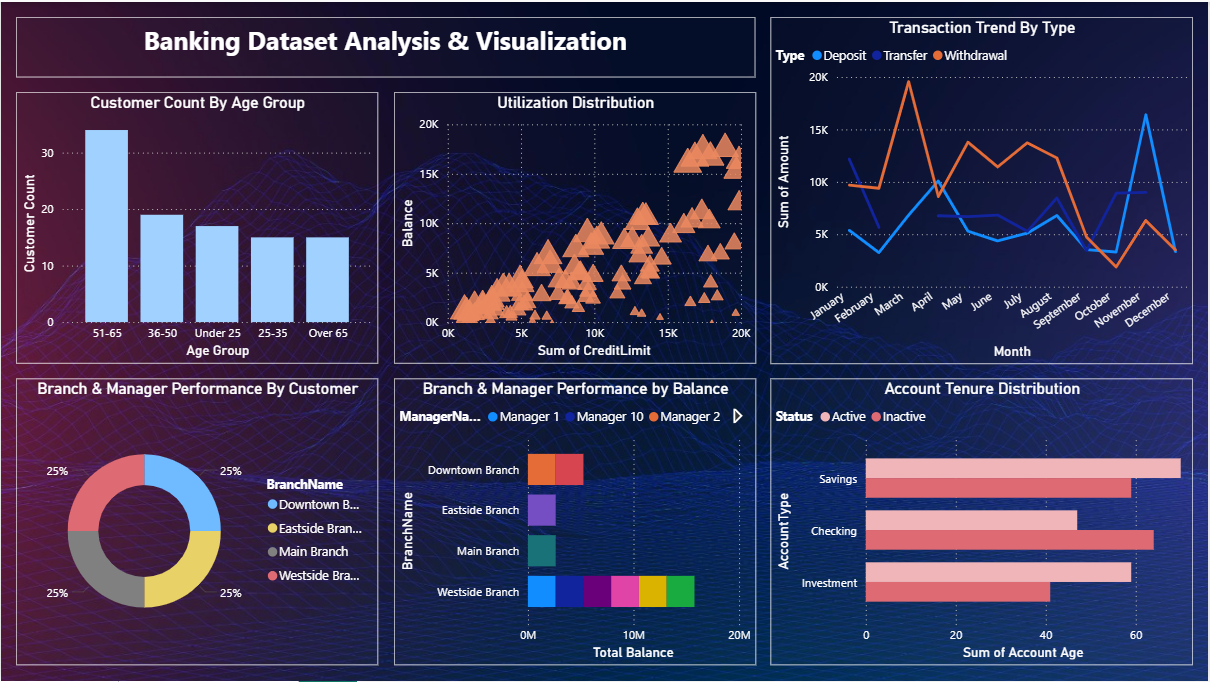

The page's visual inventory and layout, read from the dashboard file:
{"tool":"powerbi","page":{"name":"Visualization 2","canvas":[1280,720],"ordinal":1},"visuals":[{"type":"textbox","box":[16,16,784,64],"z":0},{"type":"columnChart","title":"Customer Count By Age Group","fields":{"Category":["Customers.Age Group"],"Y":["Customers.Customer Count"]},"box":[16,96,384,288],"z":1},{"type":"donutChart","title":"Branch & Manager Performance By Customer","fields":{"Category":["Branches.BranchName","Branches.ManagerName"],"Y":["Customers.Customer Count"]},"box":[16,400,384,304],"z":2},{"type":"scatterChart","title":" Utilization Distribution","fields":{"X":["CreditCards.CreditLimit"],"Y":["CreditCards.Balance"],"Size":["Atms.Credit Utilization"]},"box":[416,96,384,288],"z":3},{"type":"clusteredBarChart","title":"Account Tenure Distribution","fields":{"Category":["Accounts.AccountType"],"Y":["Accounts.Account Age"],"Series":["Accounts.Status"]},"box":[816,400,448,304],"z":4},{"type":"barChart","title":"Branch & Manager Performance by  Balance","fields":{"Category":["Branches.BranchName"],"Y":["Accounts.Total Balance"],"Series":["Branches.ManagerName"]},"box":[416,400,384,304],"z":5},{"type":"lineChart","title":"Transaction Trend By Type","fields":{"Category":["Date.Date.Variation.Date Hierarchy.Month"],"Series":["Transactions.Type"],"Y":["Transactions.Amount"]},"box":[816,16,448,368],"z":6}]}

Visuals, with their boxes in screenshot pixels (x1, y1, x2, y2), scaled from the page's 1280x720 canvas onto the 1210x682 screenshot:
textbox: bbox=(15, 15, 756, 76)
"Customer Count By Age Group" columnChart: bbox=(15, 91, 378, 364)
"Branch & Manager Performance By Customer" donutChart: bbox=(15, 379, 378, 667)
" Utilization Distribution" scatterChart: bbox=(393, 91, 756, 364)
"Account Tenure Distribution" clusteredBarChart: bbox=(771, 379, 1195, 667)
"Branch & Manager Performance by  Balance" barChart: bbox=(393, 379, 756, 667)
"Transaction Trend By Type" lineChart: bbox=(771, 15, 1195, 364)
